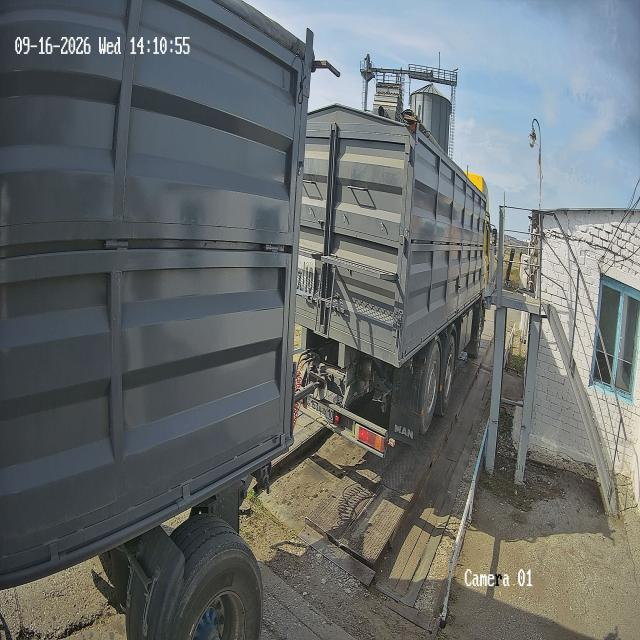license plate: (307, 397, 334, 423), (296, 258, 315, 294)
trailer: (0, 40, 320, 573), (482, 181, 483, 184)
truck: (296, 105, 490, 455)
